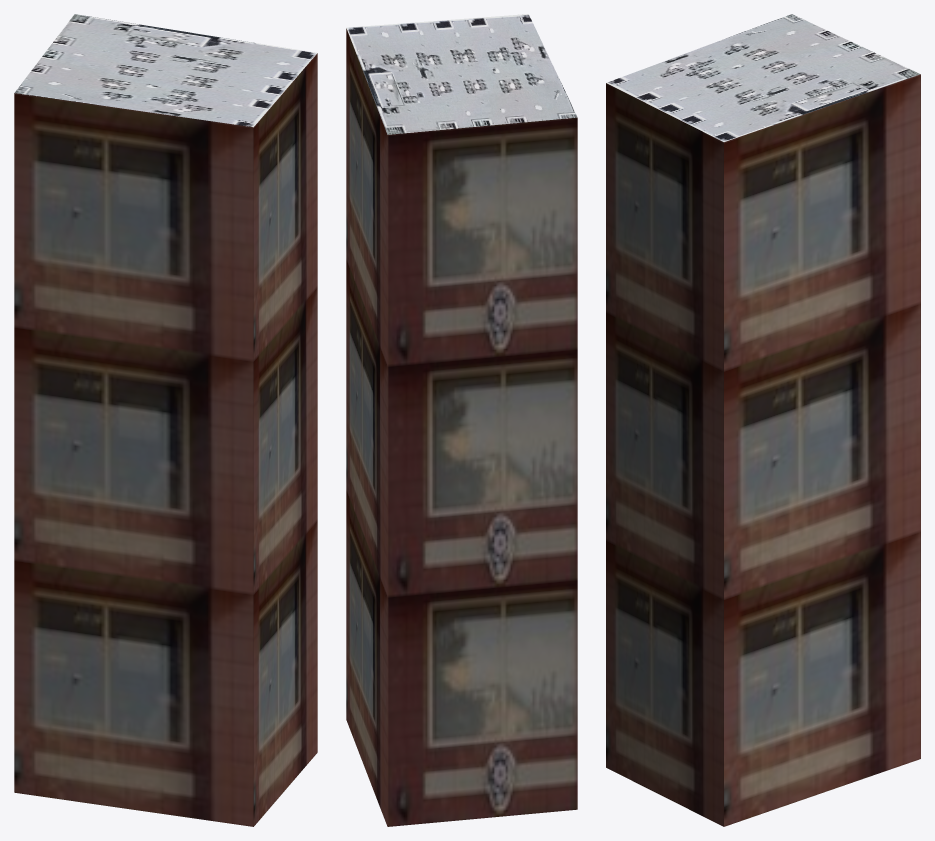
Rendered from ResTex__3568.fbx.
The picture shows the model from 3 angles, left to right: view 1: azimuth 30°, elevation 25°; view 2: azimuth 150°, elevation 25°; view 3: azimuth 270°, elevation 25°; orthographic projection. The views are drawn at different scales.
Visible parts, largest first — view 1: CityEngineMaterial_13_m, CityEngineMaterial_2_m; view 2: CityEngineMaterial_13_m, CityEngineMaterial_2_m; view 3: CityEngineMaterial_13_m, CityEngineMaterial_2_m.
Part boxes in pixels (box(x1,y1,x2,y2)): CityEngineMaterial_13_m: box(14, 53, 317, 826); CityEngineMaterial_2_m: box(14, 14, 317, 127); CityEngineMaterial_13_m: box(346, 28, 577, 826); CityEngineMaterial_2_m: box(346, 14, 577, 134); CityEngineMaterial_13_m: box(606, 74, 920, 826); CityEngineMaterial_2_m: box(606, 14, 920, 141).
Bounding box in the file's own units: 3.62 × 9 × 3.75.
Materials: 2 (2 with a texture image).
